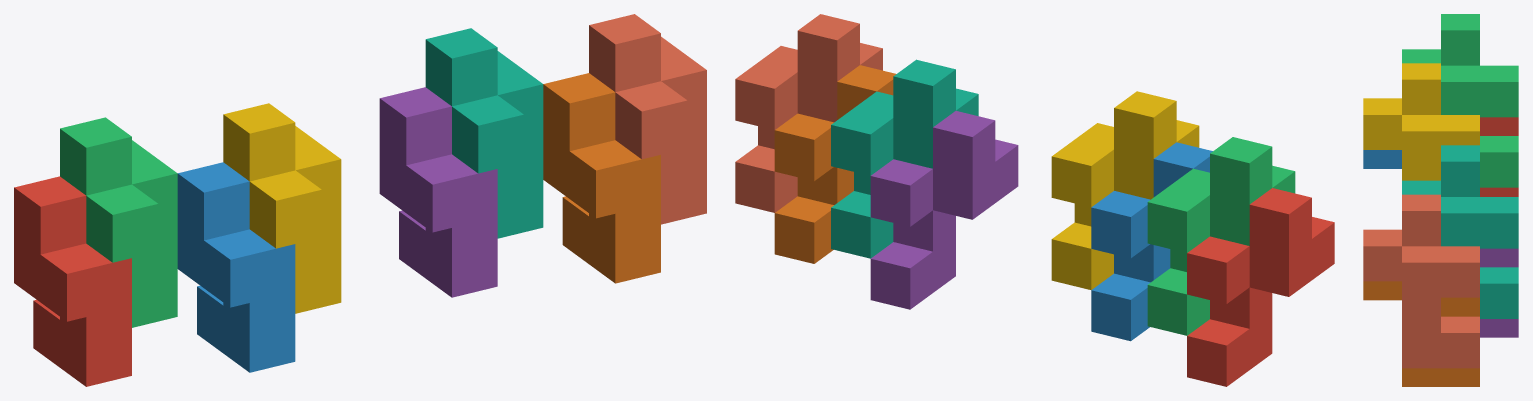
File: tiling.obj
3 renders of one model, left to right at view 1: azimuth 30°, elevation 25°; view 2: azimuth 150°, elevation 25°; view 3: azimuth 270°, elevation 25°, orthographic. The views are drawn at different scales.
Parts seen in each view (by area): view 1: copy_1_domain_2, copy_1_domain_5, copy_1_domain_1, copy_1_domain_6, copy_1_domain_4, copy_1_domain_7, copy_1_domain_8, copy_1_domain_3; view 2: copy_1_domain_5, copy_1_domain_1, copy_1_domain_4, copy_1_domain_3, copy_1_domain_8, copy_1_domain_7, copy_1_domain_2, copy_1_domain_6; view 3: copy_1_domain_8, copy_1_domain_3, copy_1_domain_7, copy_1_domain_4, copy_1_domain_6, copy_1_domain_5, copy_1_domain_1, copy_1_domain_2.
Boxes of the visible parts, <box> form: copy_1_domain_2: <box>177,162,295,372</box>; copy_1_domain_5: <box>379,87,497,297</box>; copy_1_domain_1: <box>14,176,131,386</box>; copy_1_domain_6: <box>543,73,660,283</box>; copy_1_domain_4: <box>223,103,341,313</box>; copy_1_domain_7: <box>425,28,543,238</box>; copy_1_domain_8: <box>589,14,706,224</box>; copy_1_domain_3: <box>60,117,177,327</box>; copy_1_domain_5: <box>870,111,1018,309</box>; copy_1_domain_1: <box>1187,188,1334,386</box>; copy_1_domain_4: <box>1051,91,1199,289</box>; copy_1_domain_3: <box>1147,137,1295,335</box>; copy_1_domain_8: <box>735,14,882,212</box>; copy_1_domain_7: <box>831,59,978,258</box>; copy_1_domain_2: <box>1091,142,1212,341</box>; copy_1_domain_6: <box>774,65,896,263</box>; copy_1_domain_8: <box>1363,194,1479,368</box>; copy_1_domain_3: <box>1402,14,1518,187</box>; copy_1_domain_7: <box>1402,145,1518,318</box>; copy_1_domain_4: <box>1363,63,1479,180</box>; copy_1_domain_6: <box>1363,281,1479,386</box>; copy_1_domain_5: <box>1480,248,1518,337</box>; copy_1_domain_1: <box>1480,117,1518,196</box>; copy_1_domain_2: <box>1363,150,1401,168</box>.
Size of the model in its own units: 14 by 5 by 4.
